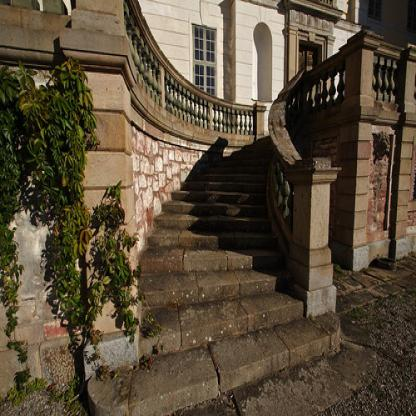stairs: (150, 225, 274, 413)
